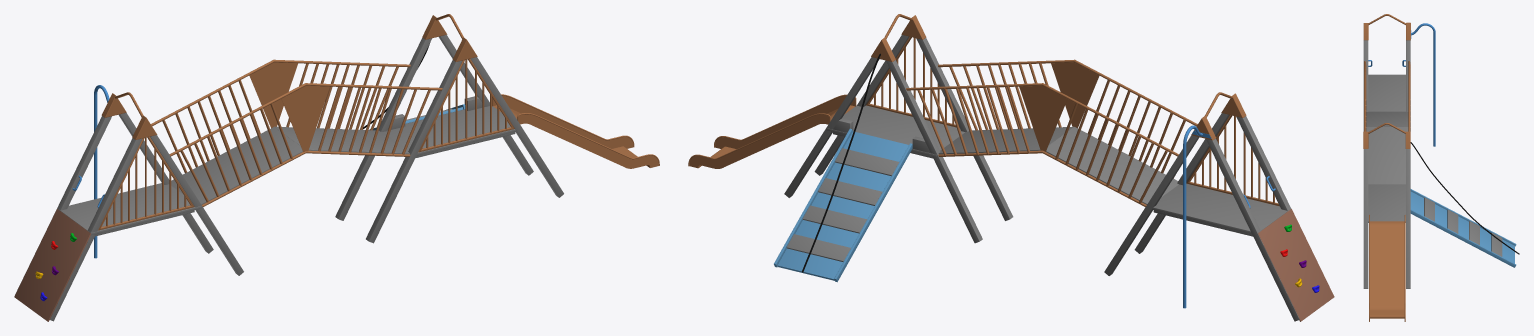
Rendered from uploads_files_6172156_Combination+of+amusement+equipment.FBX.
3 views of the same model, side by side, from view 1: azimuth 30°, elevation 25°; view 2: azimuth 150°, elevation 25°; view 3: azimuth 270°, elevation 25° (orthographic). The views are drawn at different scales.
Parts seen in each view (by area): view 1: ChamferBox004, ChamferBox007, ChamferBox001, ChamferBox008, ChamferBox010, Line005, ChamferBox014, Line007, ChamferBox012, Line015, ChamferBox006, ChamferBox005 (+13 smaller); view 2: ChamferBox015, ChamferBox004, ChamferBox007, ChamferBox001, ChamferBox008, ChamferBox012, ChamferBox014, Line007, Line005, ChamferBox002, ChamferBox010, Line014 (+20 smaller); view 3: Line013, ChamferBox014, ChamferBox001, ChamferBox008, ChamferBox015, ChamferBox009, ChamferBox013, ChamferBox007, ChamferBox025, Line011, ChamferBox005, ChamferBox020 (+9 smaller).
Part boxes in pixels (box(x1,y1,x2,y2)): ChamferBox004: box(14, 209, 90, 321); ChamferBox007: box(171, 127, 302, 204); ChamferBox001: box(57, 183, 201, 235); ChamferBox008: box(383, 106, 516, 155); ChamferBox010: box(366, 60, 462, 243); Line005: box(281, 85, 329, 152); ChamferBox014: box(274, 126, 409, 154); Line007: box(249, 62, 297, 128); ChamferBox012: box(335, 38, 431, 220); Line015: box(518, 114, 658, 168); ChamferBox006: box(50, 138, 142, 321); ChamferBox005: box(150, 135, 243, 275); ChamferBox015: box(777, 131, 908, 280); ChamferBox004: box(1258, 209, 1334, 321); ChamferBox007: box(1046, 127, 1178, 204); ChamferBox001: box(1152, 183, 1290, 233); ChamferBox008: box(826, 105, 964, 157); ChamferBox012: box(886, 60, 982, 243); ChamferBox014: box(938, 126, 1073, 154); Line007: box(1019, 85, 1067, 151); Line005: box(1051, 62, 1099, 128); ChamferBox002: box(1206, 138, 1299, 321); ChamferBox010: box(916, 38, 1013, 220); Line014: box(689, 114, 829, 168); Line013: box(1370, 221, 1404, 318); ChamferBox014: box(1366, 127, 1408, 184); ChamferBox001: box(1368, 74, 1405, 111); ChamferBox008: box(1368, 184, 1405, 222); ChamferBox015: box(1410, 191, 1514, 263); ChamferBox009: box(1363, 149, 1368, 288); ChamferBox013: box(1406, 149, 1410, 288); ChamferBox007: box(1366, 111, 1408, 127); ChamferBox025: box(1410, 209, 1516, 267); Line011: box(1411, 23, 1435, 146); ChamferBox005: box(1363, 40, 1368, 131); ChamferBox020: box(1410, 189, 1516, 246).
Bounding box in the file's own units: 1058 × 318 × 334.
